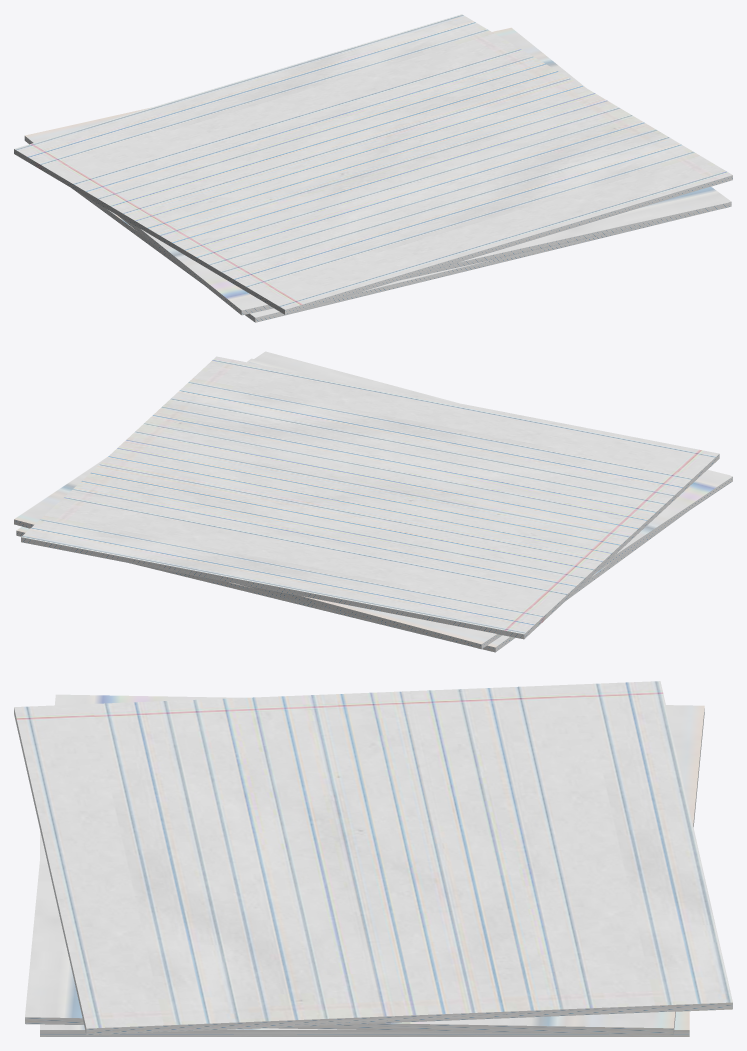
Rendered from NeatPapers.fbx.
3 renders of one model, top to bottom at view 1: azimuth 30°, elevation 25°; view 2: azimuth 150°, elevation 25°; view 3: azimuth 270°, elevation 25°, orthographic. The views are drawn at different scales.
Visible parts, largest first — view 1: pCube3, pCube2, pCube1; view 2: pCube3, pCube2, pCube1; view 3: pCube3, pCube2, pCube1.
Boxes of the visible parts, x1,y1,x2,y2 form: pCube3: (14,14,732,314); pCube2: (24,27,728,315); pCube1: (72,187,731,322); pCube3: (21,356,719,639); pCube2: (14,351,732,649); pCube1: (16,358,730,652); pCube3: (14,681,732,1035); pCube2: (25,694,704,1035); pCube1: (40,830,689,1036).
Bounding box in the file's own units: 1.08 × 0.0298 × 0.941.
Materials: 1 (1 with a texture image).
